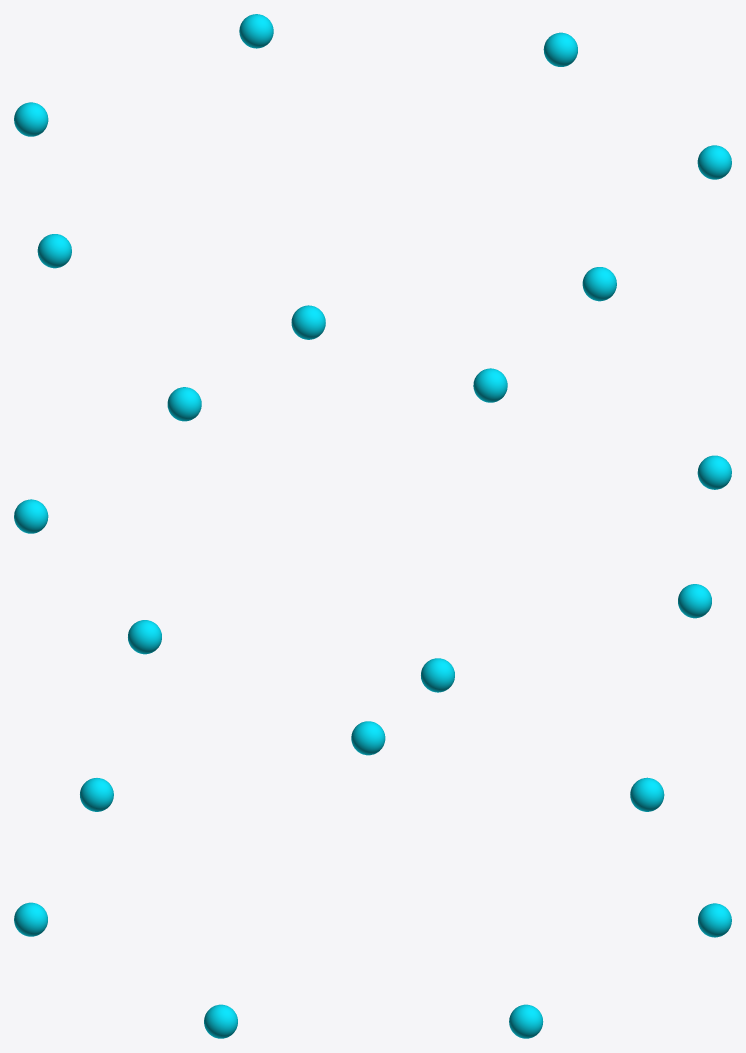
3 renders of one model, top to bottom at view 1: azimuth 30°, elevation 25°; view 2: azimuth 150°, elevation 25°; view 3: azimuth 270°, elevation 25°, orthographic.
Parts seen in each view (by area): view 1: Sphere050; view 2: Sphere050; view 3: Sphere050.
Part boxes in pixels (x1,y1,x2,y2): Sphere050: [14, 14, 731, 339]; Sphere050: [14, 368, 731, 692]; Sphere050: [14, 721, 731, 1038].
Size of the model in its own units: 169 by 8.22 by 173.
